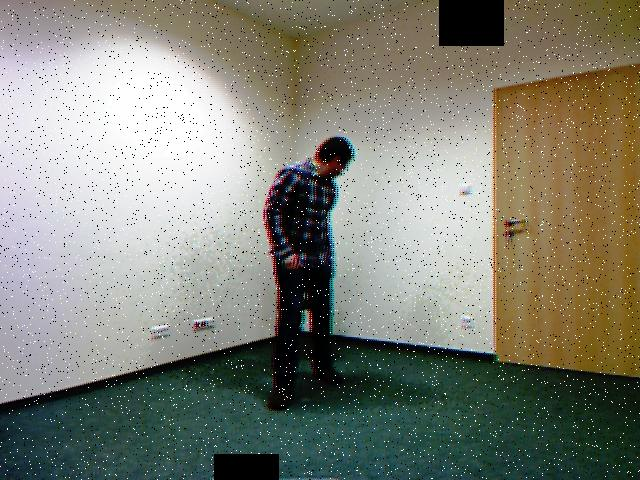walking: (251, 130, 368, 410)
